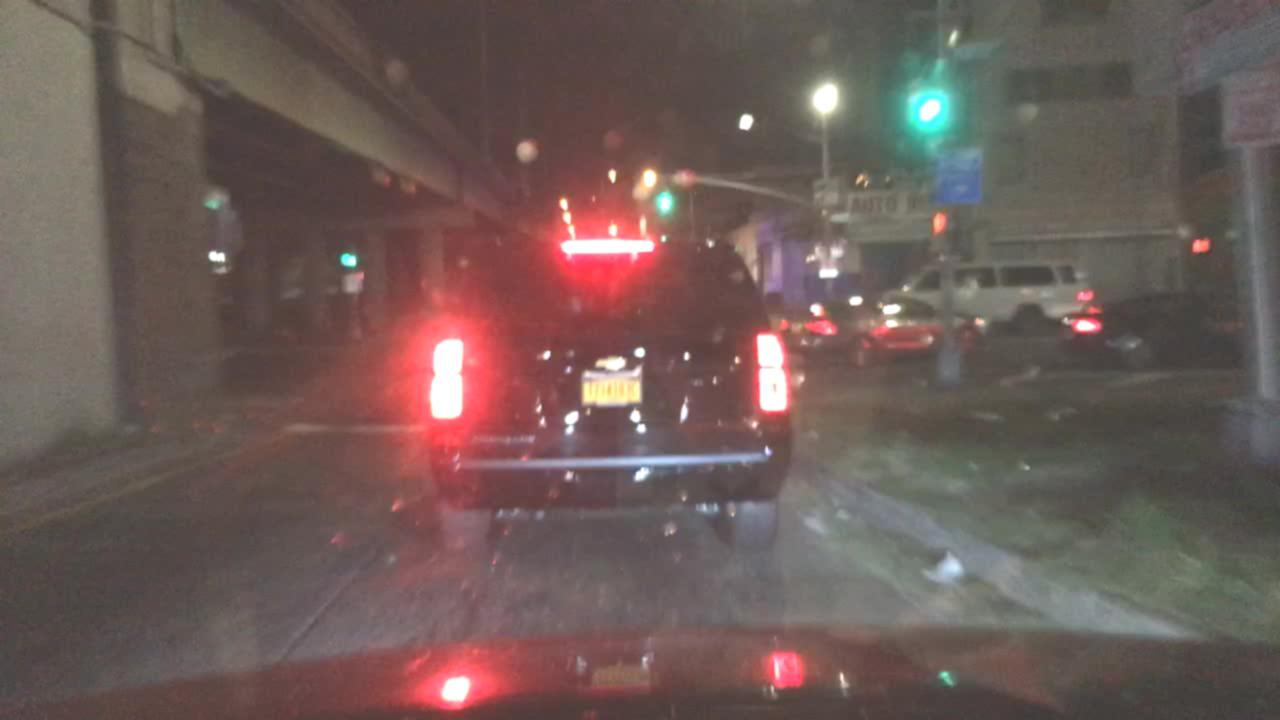chevrolet: (588, 350, 639, 376)
